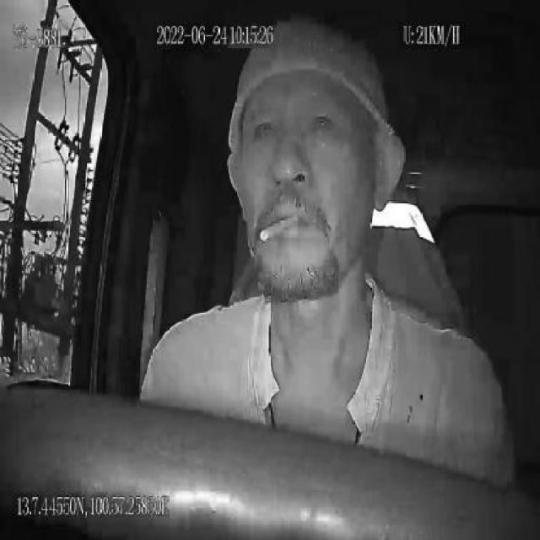smoking: (257, 214, 298, 244)
